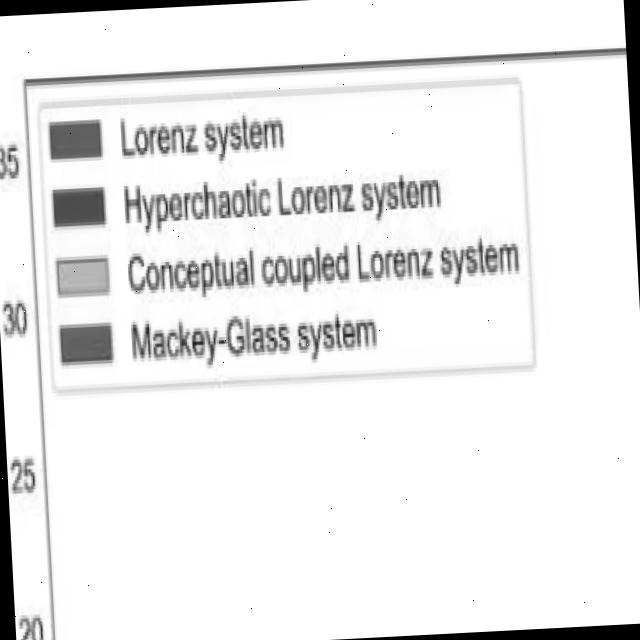word: (120, 173, 278, 245), (126, 308, 296, 374), (124, 241, 259, 307), (292, 305, 398, 367), (354, 165, 454, 229), (257, 246, 357, 307), (434, 227, 525, 294), (115, 109, 204, 169), (354, 234, 437, 298), (274, 167, 359, 229), (201, 111, 289, 165), (1, 292, 30, 347), (6, 450, 37, 500), (0, 139, 26, 191), (16, 607, 49, 640)
